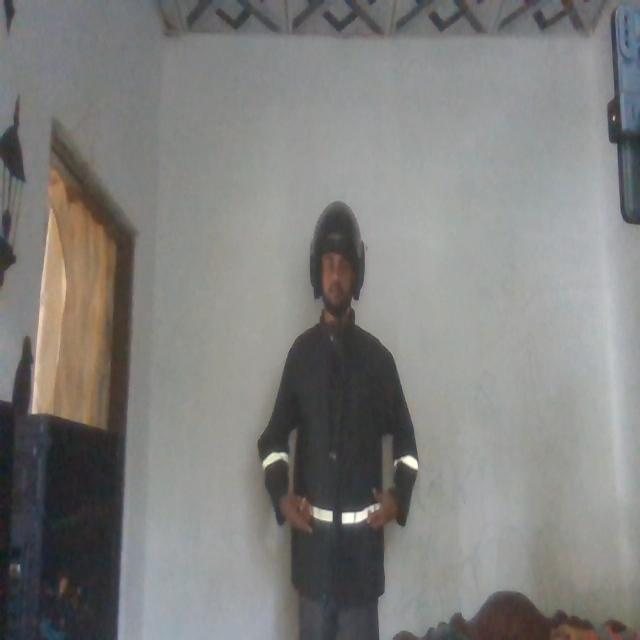Helmet_Wearer: (312, 196, 364, 330)
Jacket_Wearer: (264, 319, 420, 605)
Person: (261, 187, 420, 640)
